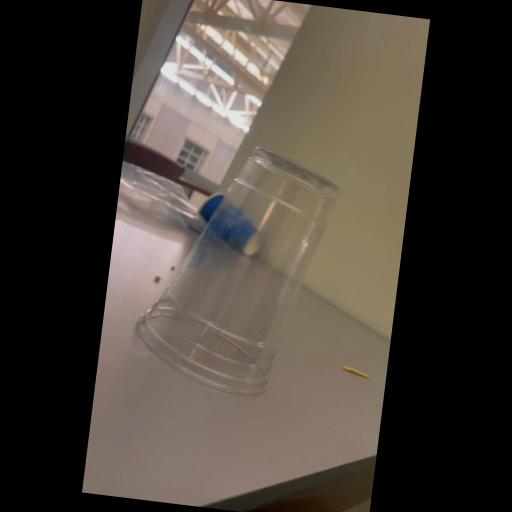lp_plastic_cup: (124, 128, 344, 402)
